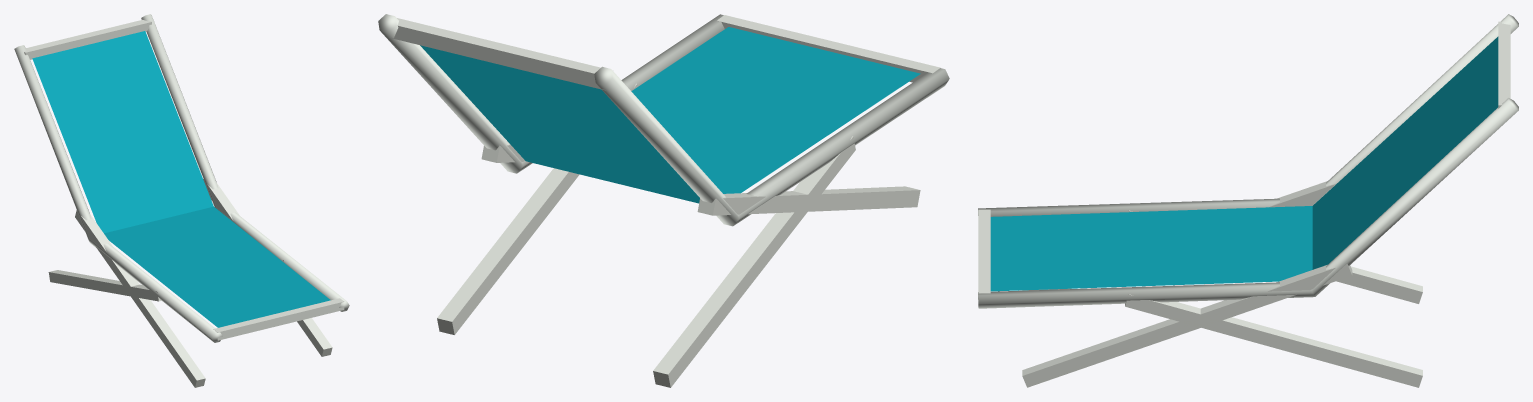
Rendered from beach_lounger.glb.
3 renders of one model, left to right at view 1: azimuth 30°, elevation 25°; view 2: azimuth 150°, elevation 25°; view 3: azimuth 270°, elevation 25°, orthographic. The views are drawn at different scales.
Parts seen in each view (by area): view 1: beach_lounger; view 2: beach_lounger; view 3: beach_lounger.
Boxes of the visible parts, x1=… form: beach_lounger: x1=14, y1=14, x2=349, y2=387; beach_lounger: x1=378, y1=14, x2=949, y2=387; beach_lounger: x1=978, y1=14, x2=1518, y2=387.
Bounding box in the file's own units: 0.694 × 1.02 × 1.75.
